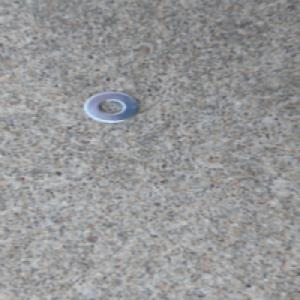Washer: (79, 89, 143, 125)
